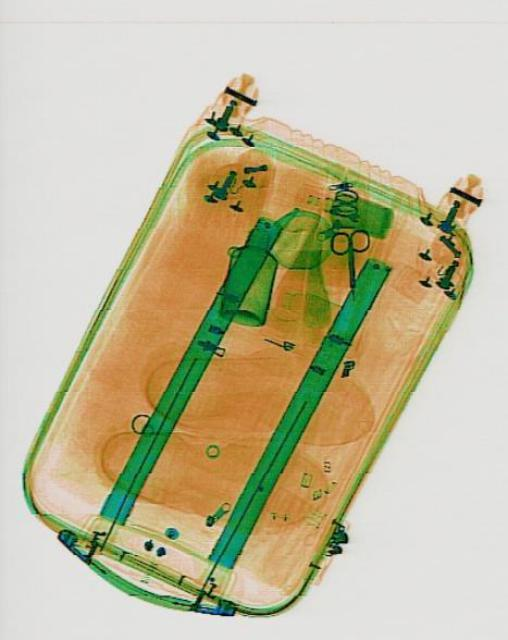Scissors: (328, 227, 370, 299)
